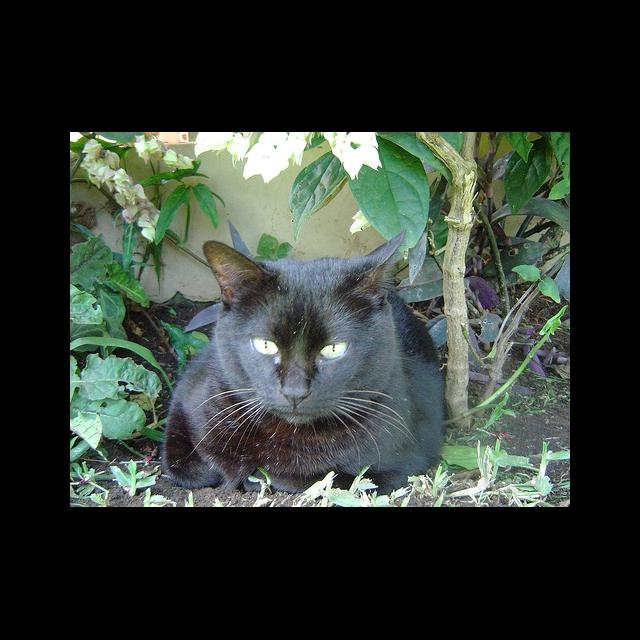animals: (208, 230, 404, 406)
